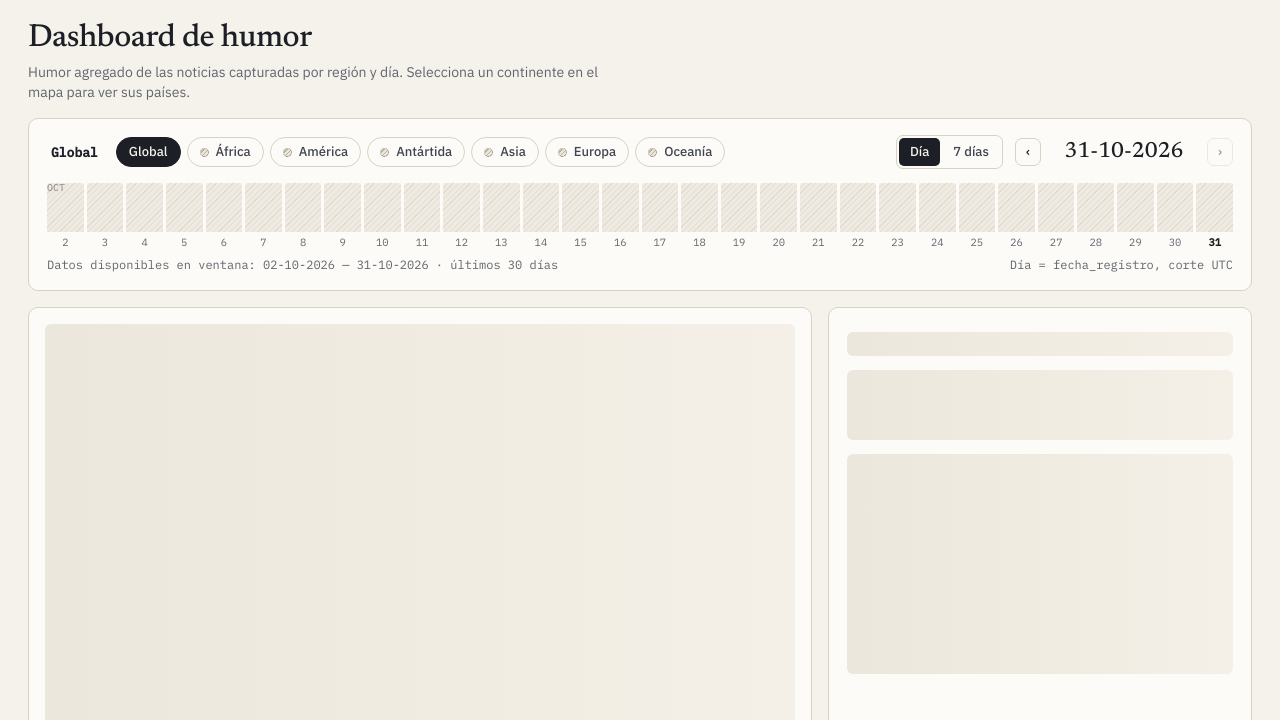
Test case: DashboardPage › changes map card heading when Europa continent is selected
Click the button "Europa" at point(587, 152), box x1=545 y1=137 x2=629 y2=167
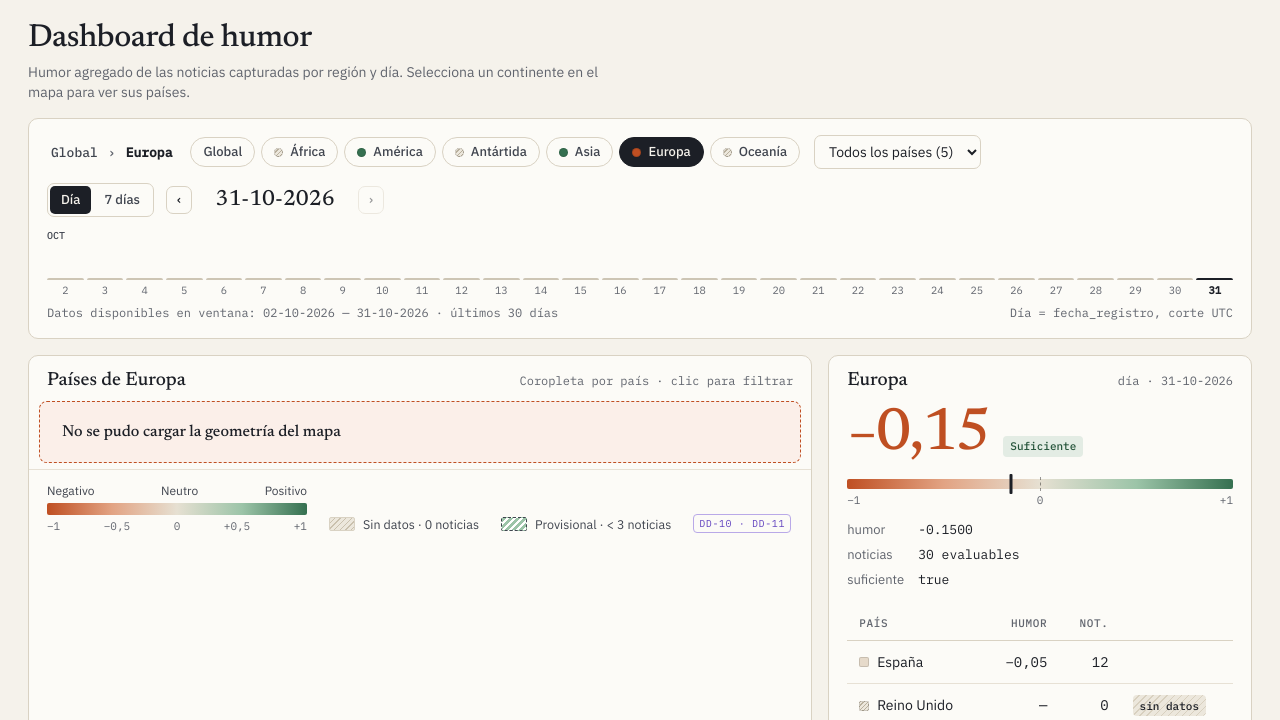
expect the heading "Países de Europa" is shown: met, box x1=47 y1=370 x2=186 y2=393
